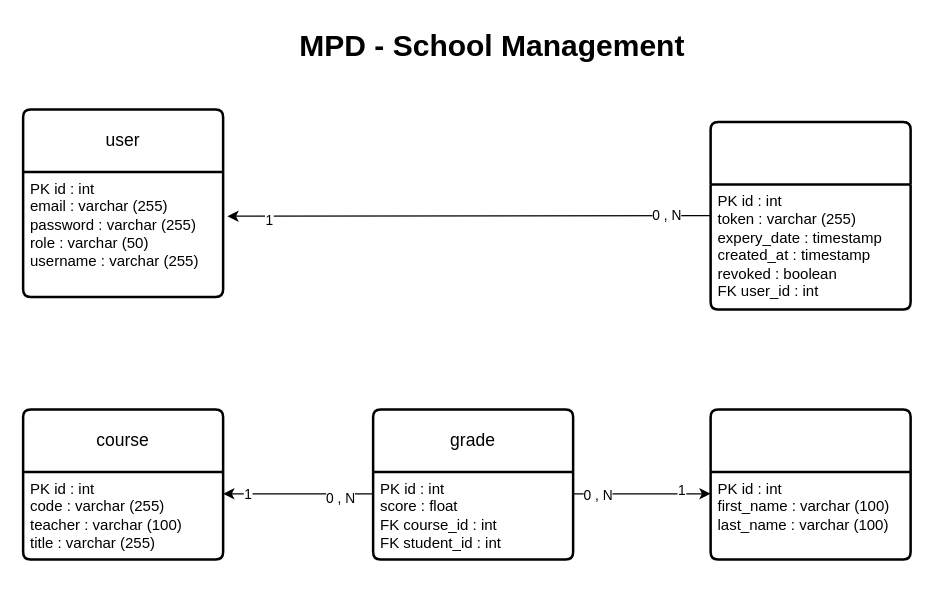
Image size: 933x591. Some labels were removed from this diagram. The box of each missing label's shape, as (x1, y1, x2, y2) in pixels:
refresh_token: (709, 120, 911, 310)
student: (709, 408, 911, 560)
